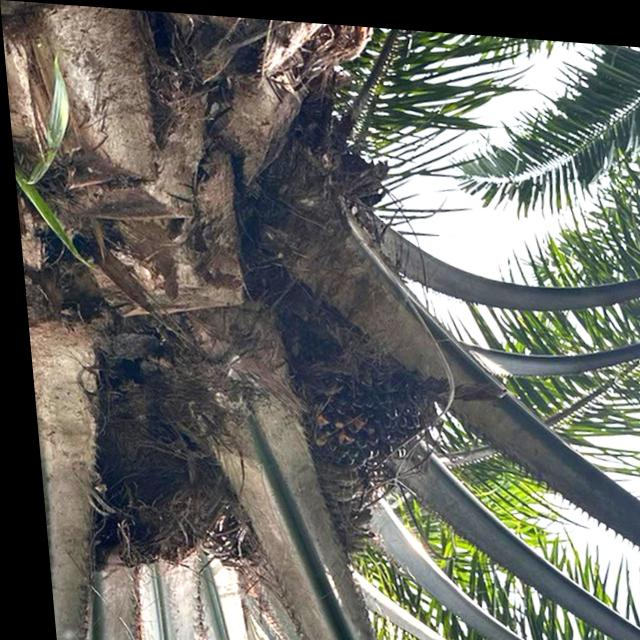almost: (285, 345, 449, 476)
